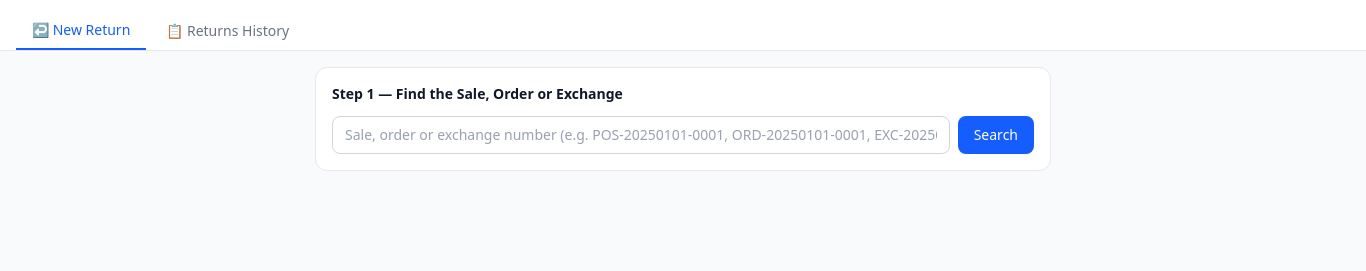
Test: Returns History › names an order return by the order number
The width and height of the screenshot is (1366, 271).
Click the button "📋 Returns History" at (228, 31), box [150, 12, 305, 50]
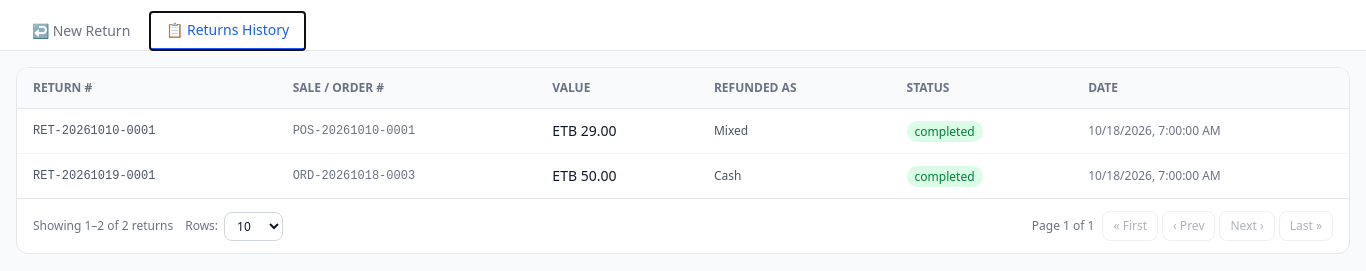
Result: the text "ORD-20261018-0003" is shown at [277, 154, 536, 198]
